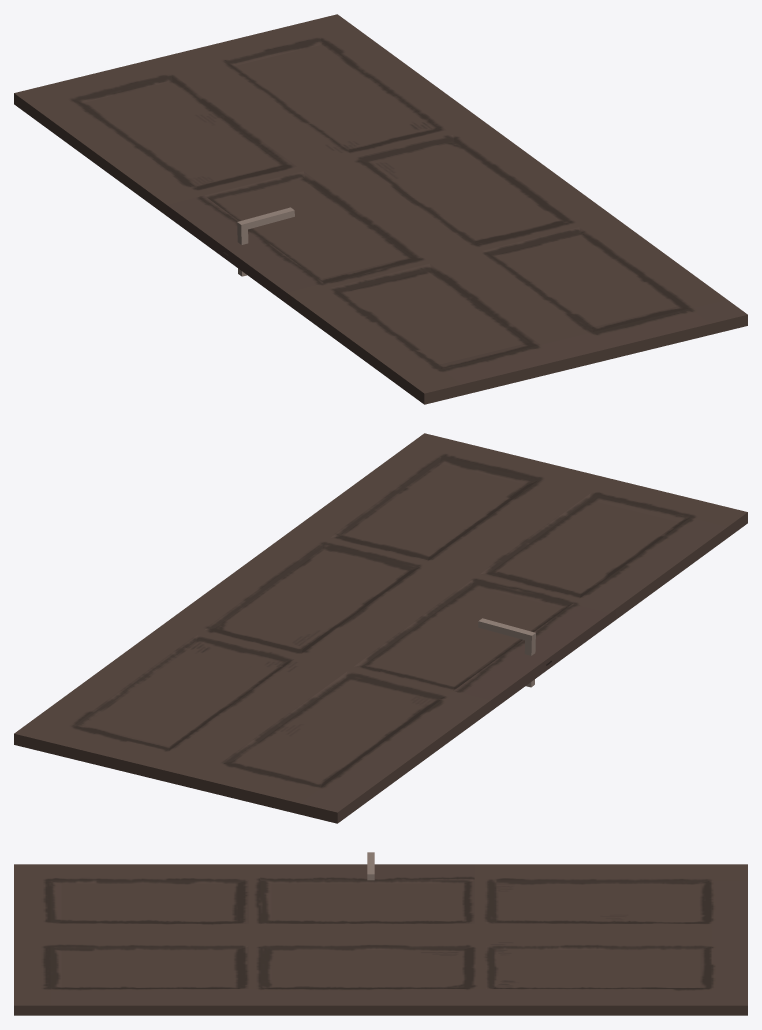
The model's file is Door.fbx.
The picture shows the model from 3 angles, top to bottom: view 1: azimuth 30°, elevation 25°; view 2: azimuth 150°, elevation 25°; view 3: azimuth 270°, elevation 25°; orthographic projection. The views are drawn at different scales.
Parts seen in each view (by area): view 1: Cube; view 2: Cube; view 3: Cube.
Part boxes in pixels (x1=…): Cube: x1=14, y1=14, x2=747, y2=404; Cube: x1=14, y1=433, x2=747, y2=823; Cube: x1=14, y1=852, x2=747, y2=1015.
Bounding box in the file's own units: 91 × 14.37 × 200.
Materials: 1 (1 with a texture image).
